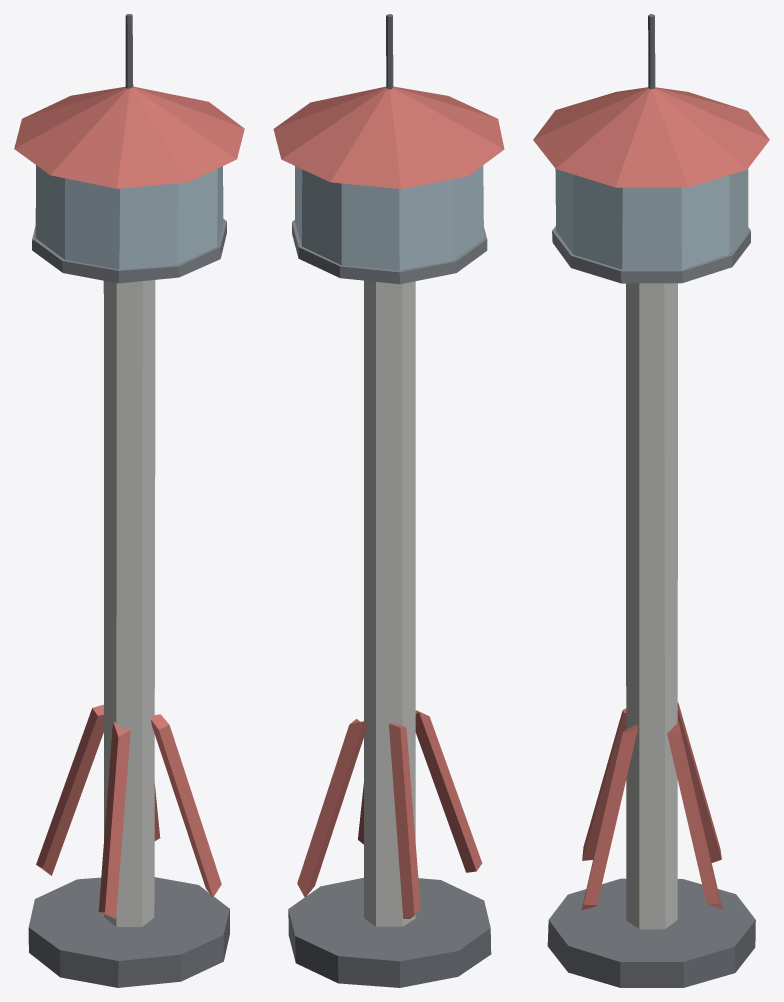
The model's file is observationtower.fbx.
The picture shows the model from 3 angles, left to right: view 1: azimuth 30°, elevation 25°; view 2: azimuth 150°, elevation 25°; view 3: azimuth 270°, elevation 25°; orthographic projection.
Visible parts, largest first — view 1: ObservationTower; view 2: ObservationTower; view 3: ObservationTower.
Part boxes in pixels (<box>): ObservationTower: <box>14,14,244,987</box>; ObservationTower: <box>273,14,504,987</box>; ObservationTower: <box>533,14,769,987</box>.
Bounding box in the file's own units: 3.05 × 13.91 × 3.2.
